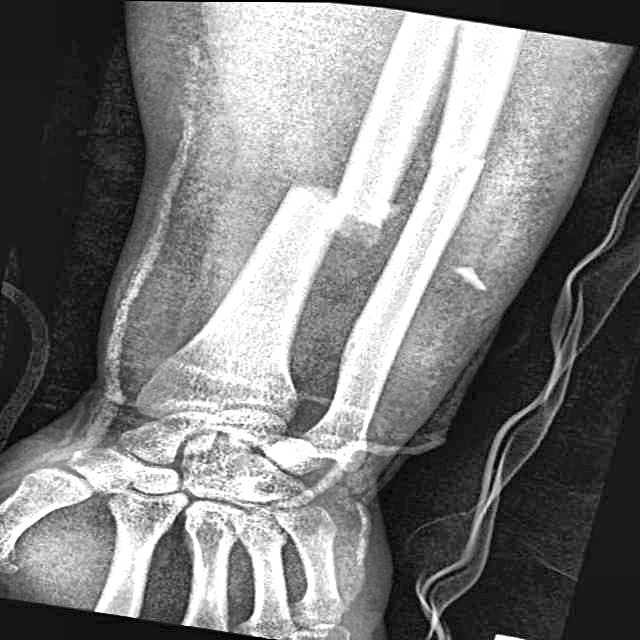Transverse: (254, 163, 403, 250)
Transverse Displaced: (412, 131, 503, 195)
